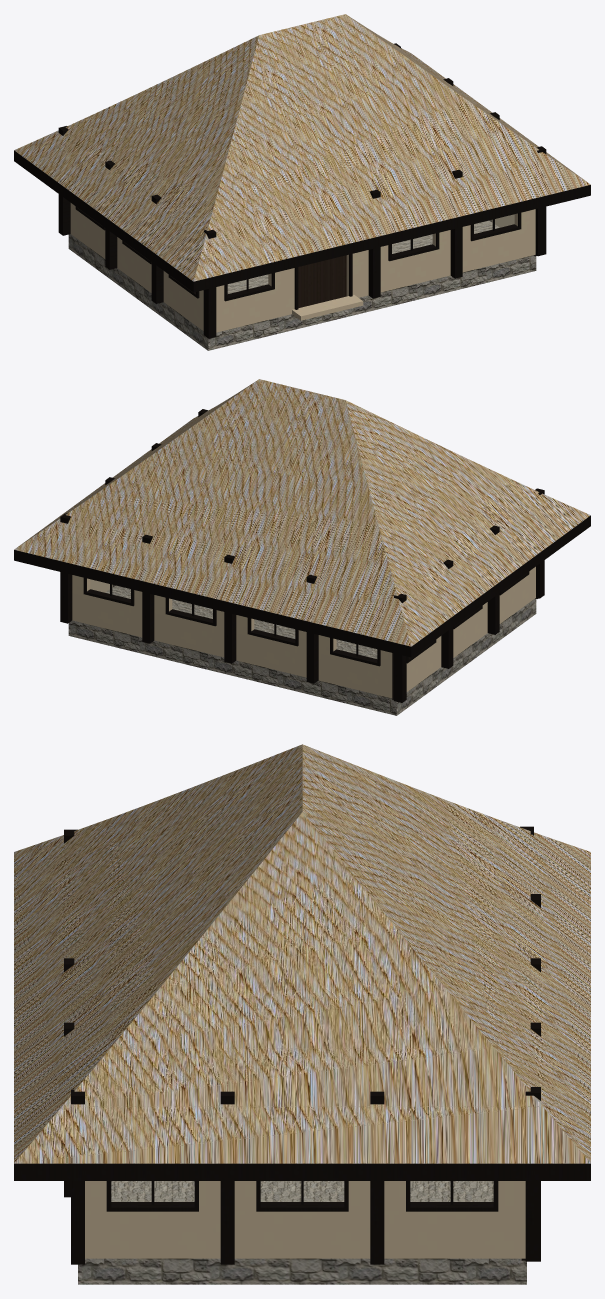
File: jp_minka_01.glb
The picture shows the model from 3 angles, top to bottom: view 1: azimuth 30°, elevation 25°; view 2: azimuth 150°, elevation 25°; view 3: azimuth 270°, elevation 25°; orthographic projection. The views are drawn at different scales.
Parts seen in each view (by area): view 1: jp_minka_01; view 2: jp_minka_01; view 3: jp_minka_01.
Boxes of the visible parts, x1,y1,x2,y2 form: jp_minka_01: (14, 14, 590, 350); jp_minka_01: (14, 379, 590, 715); jp_minka_01: (14, 744, 590, 1284).
Size of the model in its own units: 11.5 by 6.5 by 9.
6 materials, 5 textured.
